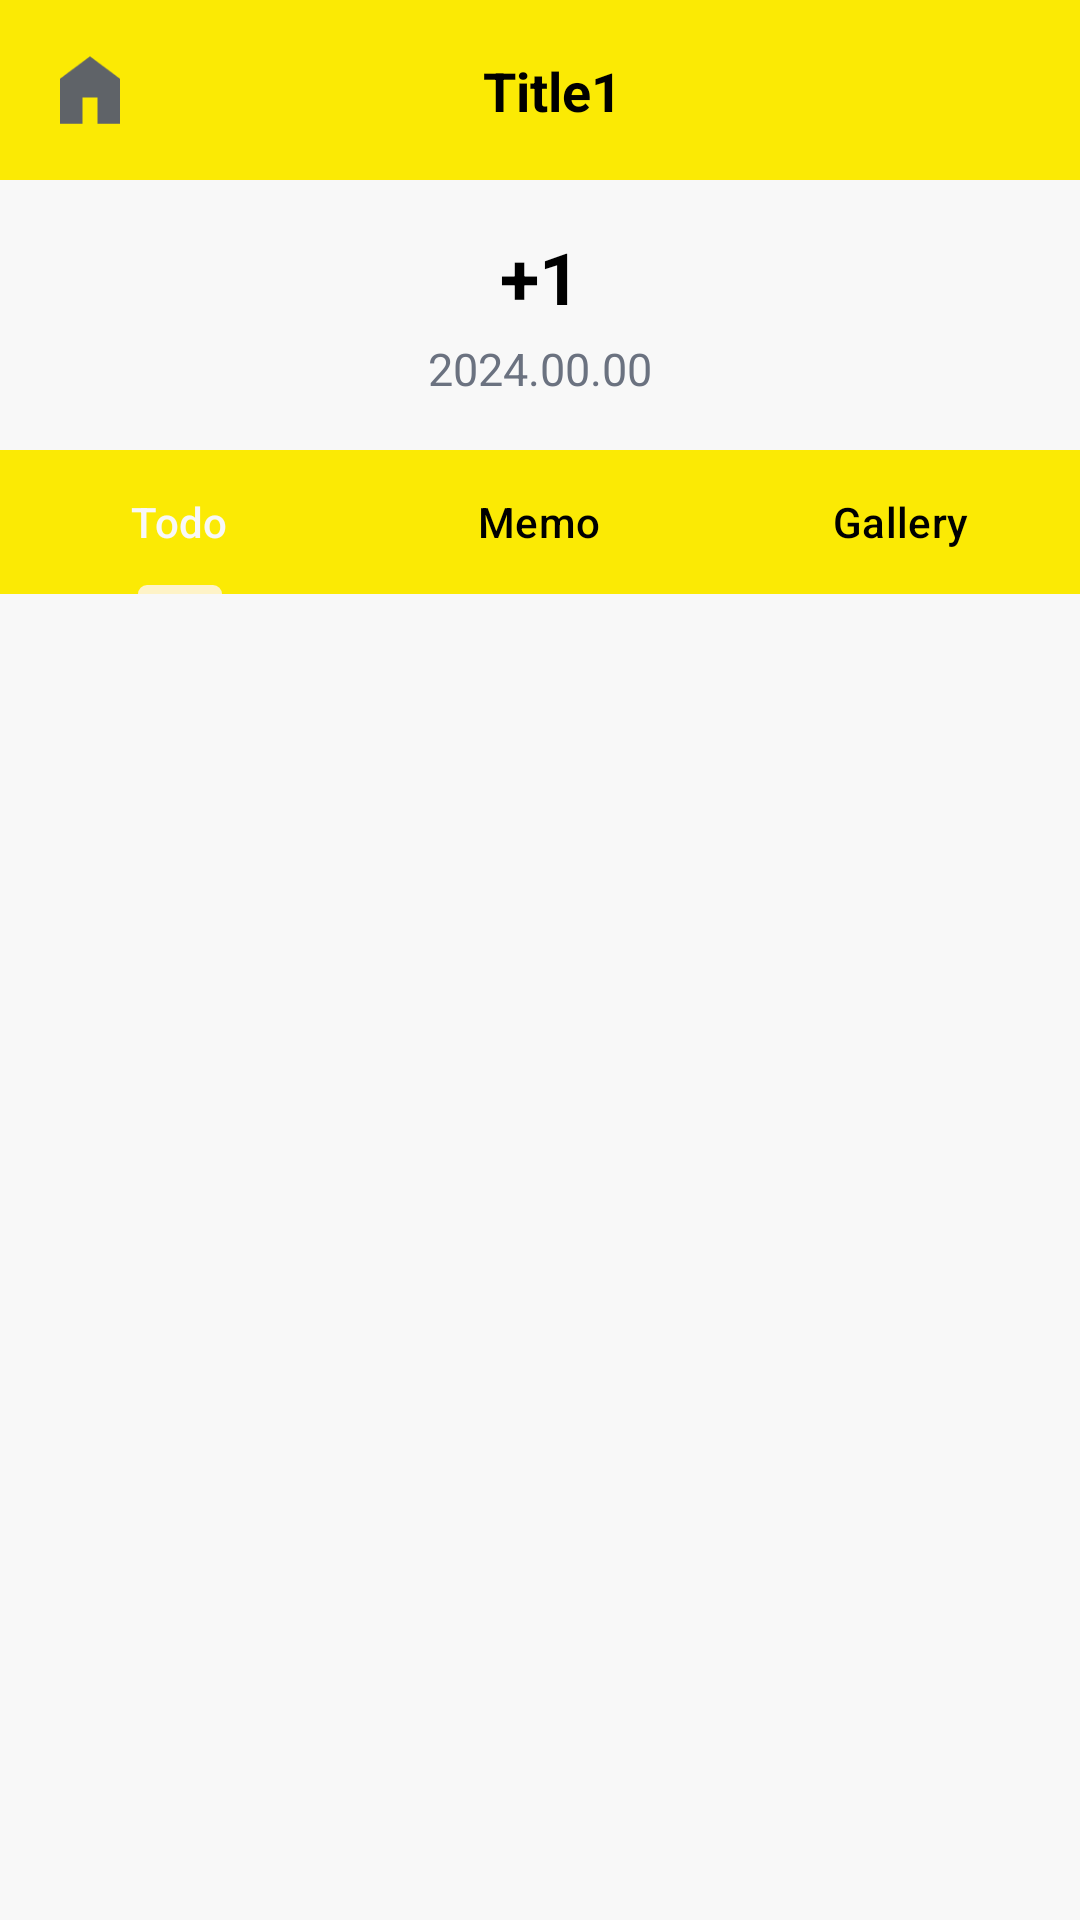

Screen size 1080x1920. Icon name, then its center in pixels as point (x, y):
home: point (90, 90)
